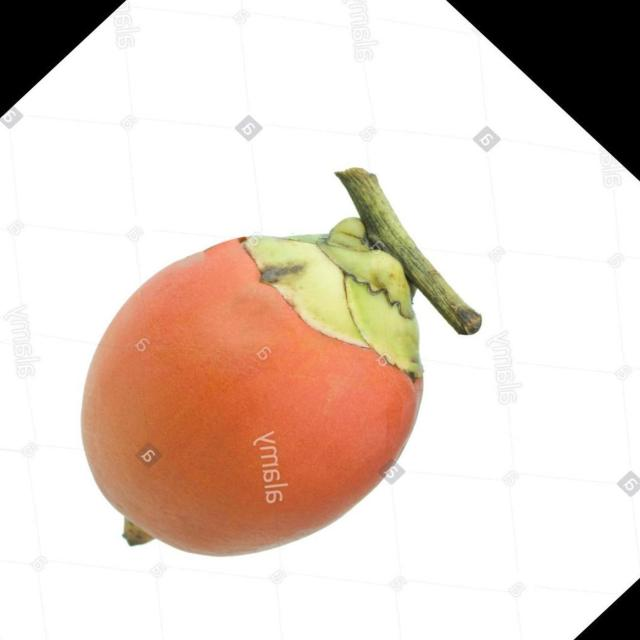good: (80, 217, 424, 560)
